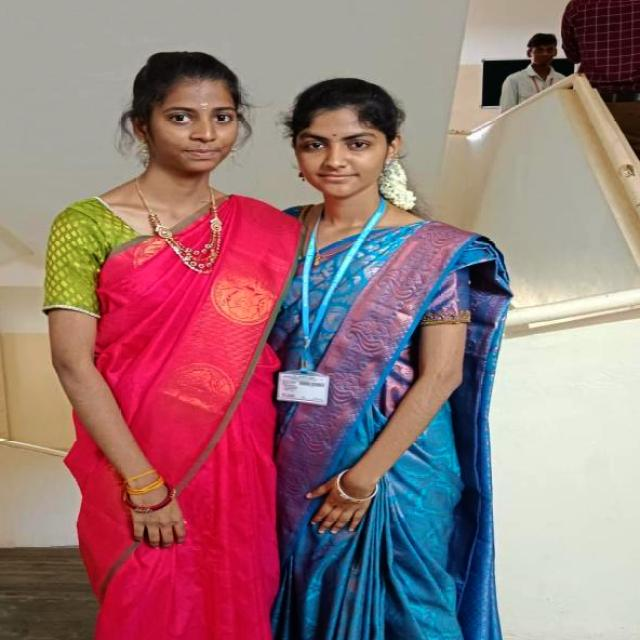ID_card: (281, 217, 328, 396)
